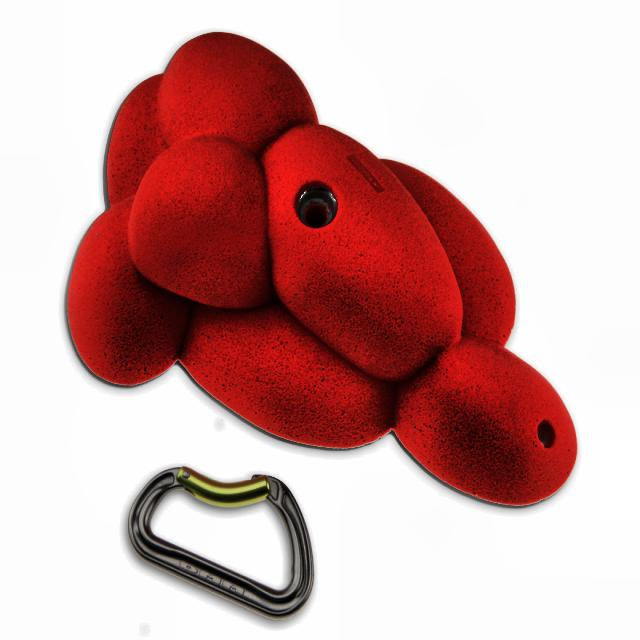Hold: (37, 6, 601, 525)
